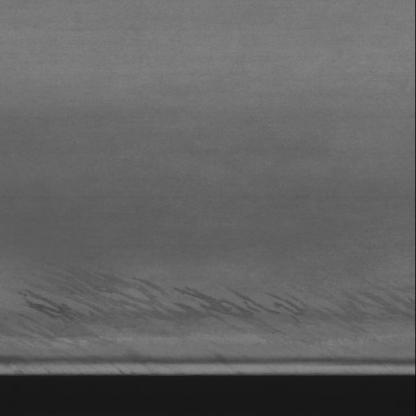water_spot: (4, 264, 395, 342)
